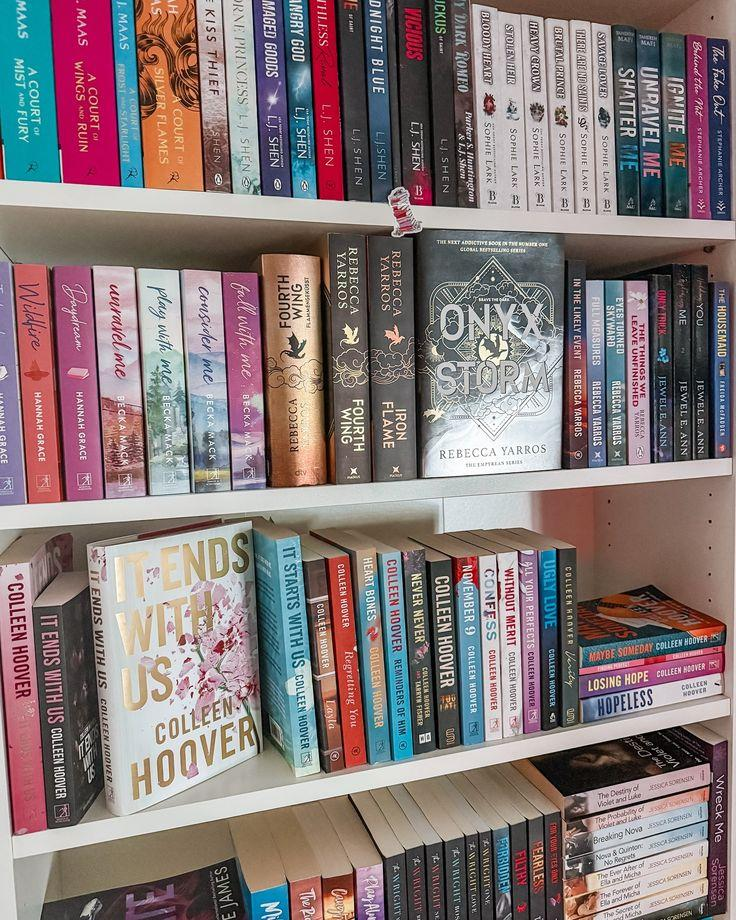book: (252, 518, 321, 776), (0, 525, 54, 837), (258, 255, 325, 487), (50, 267, 109, 500), (89, 265, 146, 495), (10, 263, 64, 502), (136, 269, 192, 492), (137, 2, 203, 188), (365, 233, 415, 476), (323, 232, 371, 477), (181, 269, 234, 489), (580, 586, 728, 664), (0, 3, 61, 180), (323, 535, 368, 768), (220, 273, 268, 488), (674, 722, 727, 914), (547, 759, 710, 821), (351, 534, 389, 765), (346, 789, 414, 916), (566, 798, 709, 856), (221, 3, 263, 194), (251, 4, 292, 195), (194, 3, 235, 190), (570, 839, 708, 894), (378, 539, 412, 761), (402, 542, 437, 756), (395, 1, 432, 203), (308, 3, 346, 195), (334, 1, 371, 196), (108, 3, 148, 182), (0, 256, 28, 511), (283, 4, 319, 194), (580, 654, 726, 700), (361, 2, 395, 198), (427, 547, 459, 753), (426, 1, 458, 202), (453, 542, 484, 749), (472, 7, 502, 208), (449, 2, 478, 201), (423, 787, 467, 916), (522, 15, 550, 210), (499, 11, 526, 208), (611, 27, 639, 214), (495, 543, 521, 743), (661, 33, 688, 215), (516, 540, 541, 736), (479, 546, 503, 744), (636, 29, 662, 211), (706, 38, 732, 219), (564, 262, 587, 464), (549, 18, 573, 210), (570, 20, 594, 212), (537, 539, 561, 731), (554, 542, 578, 733), (591, 24, 615, 215), (684, 36, 709, 219), (625, 278, 649, 462), (649, 272, 672, 458), (671, 265, 693, 456), (521, 771, 550, 915), (708, 282, 731, 458), (604, 280, 626, 463), (689, 265, 709, 455), (487, 783, 514, 917), (585, 279, 604, 463), (507, 788, 530, 915)
